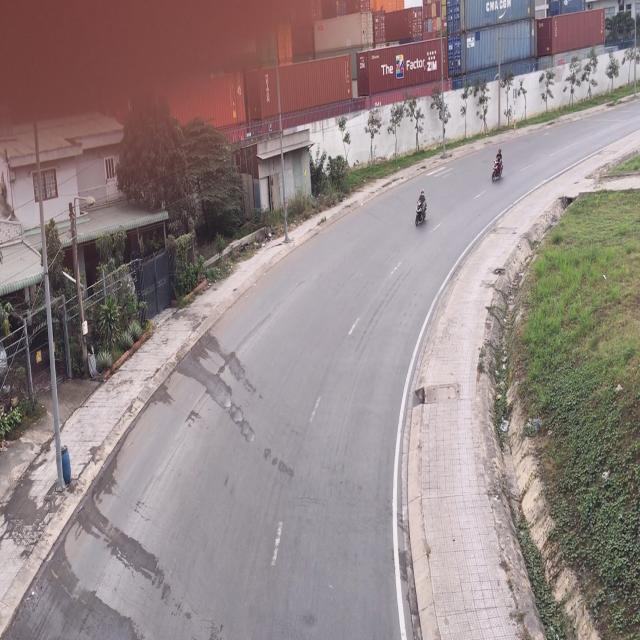motorbike: (413, 190, 430, 231), (490, 149, 505, 185)
